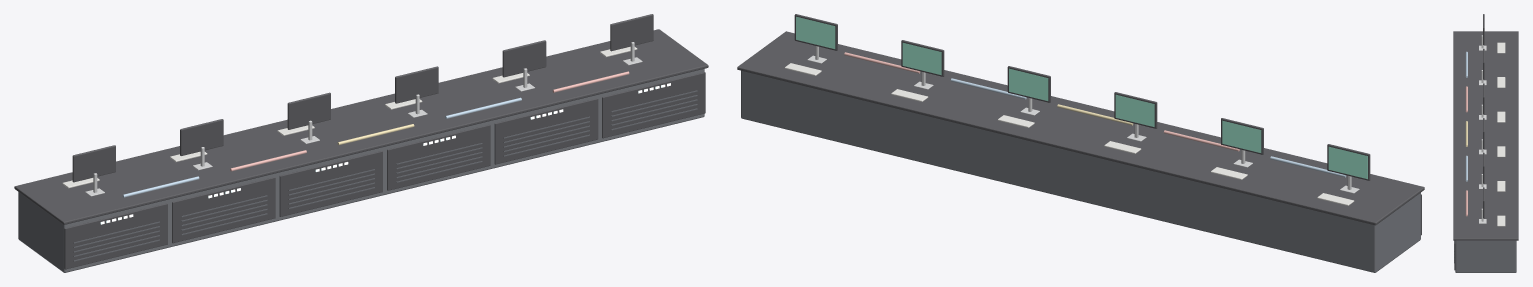
Rendered from stove.glb.
3 renders of one model, left to right at view 1: azimuth 30°, elevation 25°; view 2: azimuth 150°, elevation 25°; view 3: azimuth 270°, elevation 25°, orthographic. The views are drawn at different scales.
Visible parts, largest first — view 1: stove_black, stove_graphite, stove_vent, stove_white, stove_aluminium, stove_coral, stove_sky; view 2: stove_graphite, stove_black, stove_white, rack screen#0, rack screen#1, rack screen#2, rack screen#3, rack screen#4, rack screen#5, stove_aluminium, stove_coral, stove_sky; view 3: stove_black, stove_graphite, stove_white, stove_aluminium, stove_coral, stove_sky, stove_butter.
Part boxes in pixels (x1,y1,x2,y2): stove_black: [14, 14, 708, 269]; stove_graphite: [18, 69, 704, 272]; stove_vent: [73, 90, 697, 261]; stove_white: [62, 46, 637, 188]; stove_aluminium: [85, 42, 642, 196]; stove_coral: [230, 71, 629, 171]; stove_sky: [122, 97, 521, 197]; stove_graphite: [741, 70, 1420, 272]; stove_black: [737, 14, 1424, 235]; stove_white: [784, 63, 1354, 205]; rack screen#0: [1328, 146, 1367, 179]; rack screen#1: [1222, 120, 1261, 152]; rack screen#2: [1115, 94, 1154, 126]; rack screen#3: [1009, 68, 1048, 100]; rack screen#4: [902, 43, 941, 75]; rack screen#5: [796, 16, 835, 48]; stove_aluminium: [807, 46, 1359, 193]; stove_coral: [844, 52, 1239, 151]; stove_sky: [950, 78, 1346, 177]; stove_black: [1453, 14, 1518, 270]; stove_graphite: [1455, 240, 1516, 272]; stove_white: [1497, 42, 1505, 226]; stove_aluminium: [1479, 35, 1486, 223]; stove_coral: [1465, 86, 1467, 216]; stove_sky: [1465, 51, 1467, 181]; stove_butter: [1465, 121, 1467, 146].
Bounding box in the file's own units: 9 × 1.26 × 1.2.
